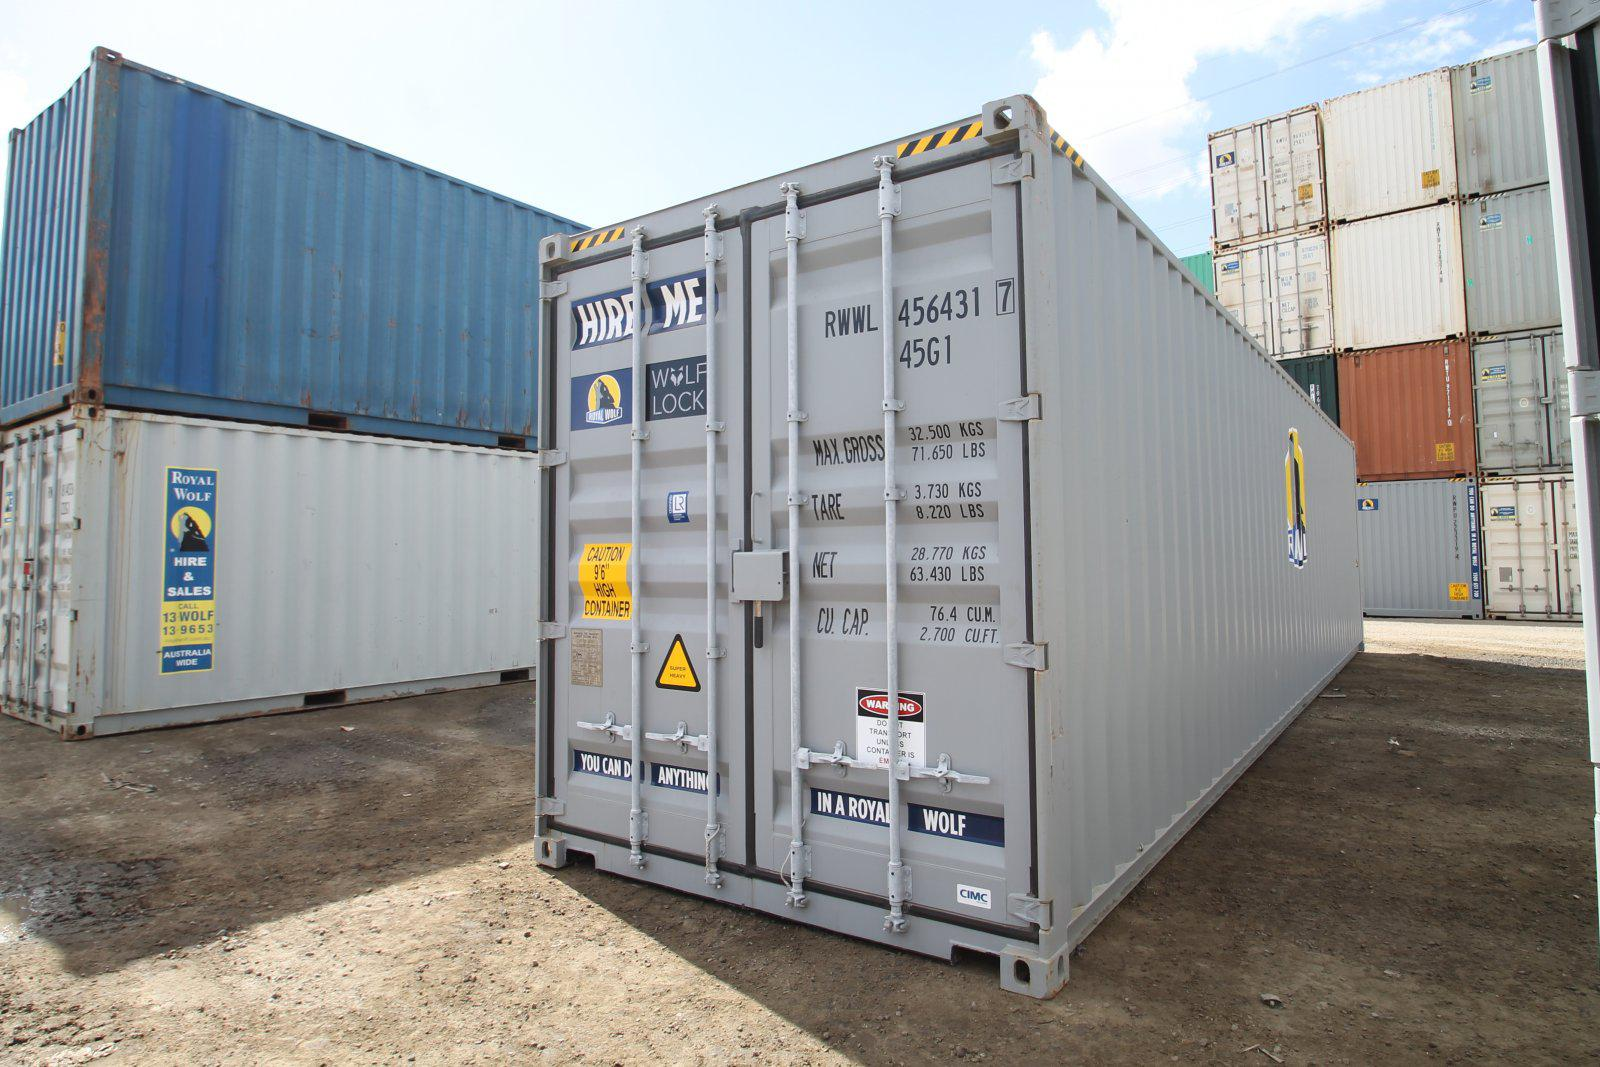ContainerNum: (820, 274, 1020, 372)
